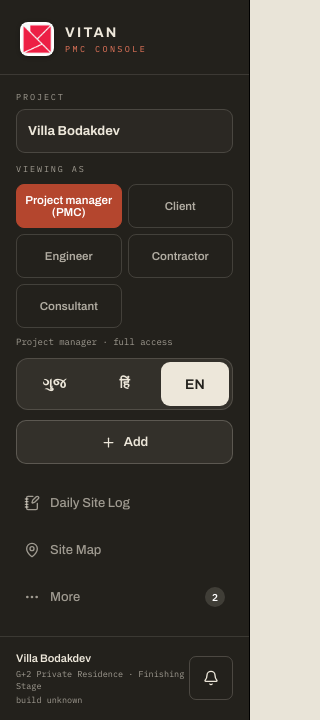
Test: #482 QA: the desktop rail holds at most five rows, the rest under More › a folded More carries the badges of the screens inside it
(page scrolled)
Click the button with test id "rail-more" at (124, 597), box [12, 575, 237, 619]
(page scrolled)
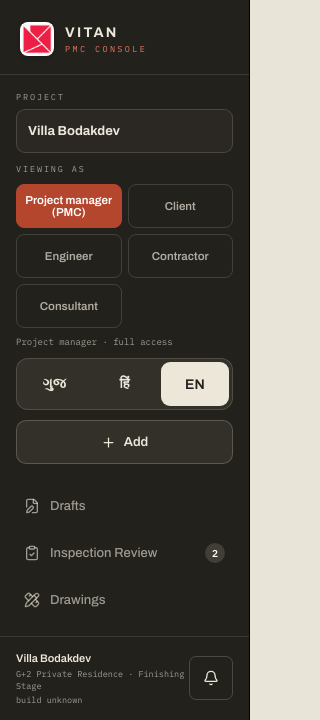
Expected: the button "Inspection Review 2" is shown, [12, 531, 237, 575]
